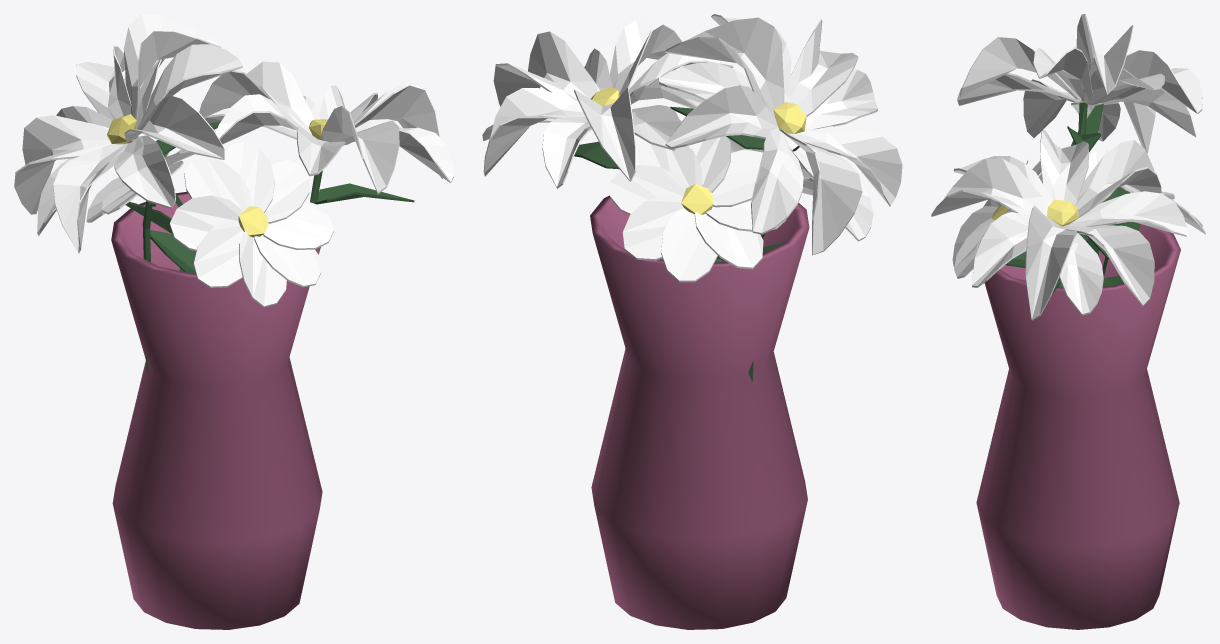
Rendered from Florero.fbx.
3 views of the same model, side by side, from view 1: azimuth 30°, elevation 25°; view 2: azimuth 150°, elevation 25°; view 3: azimuth 270°, elevation 25° (orthographic). The views are drawn at different scales.
Parts seen in each view (by area): view 1: Cylinder.001; view 2: Cylinder.001; view 3: Cylinder.001.
Part boxes in pixels (bbox=[...]): Cylinder.001: bbox=[14, 14, 453, 629]; Cylinder.001: bbox=[482, 14, 902, 629]; Cylinder.001: bbox=[931, 14, 1205, 629].
Size of the model in its own units: 0.3816 by 0.5407 by 0.2434.
